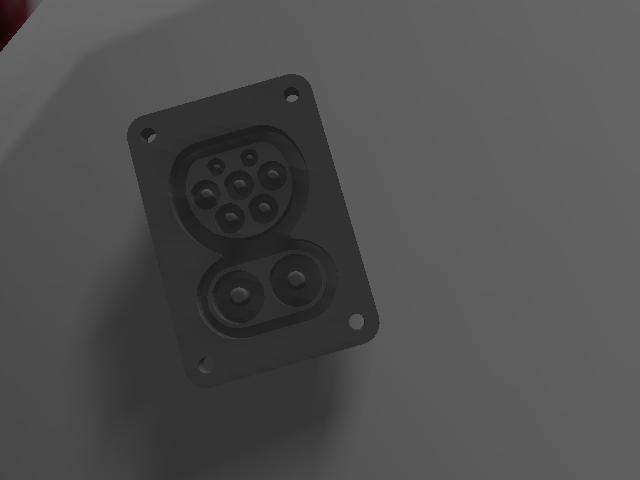EV-socket: (125, 69, 387, 394)
